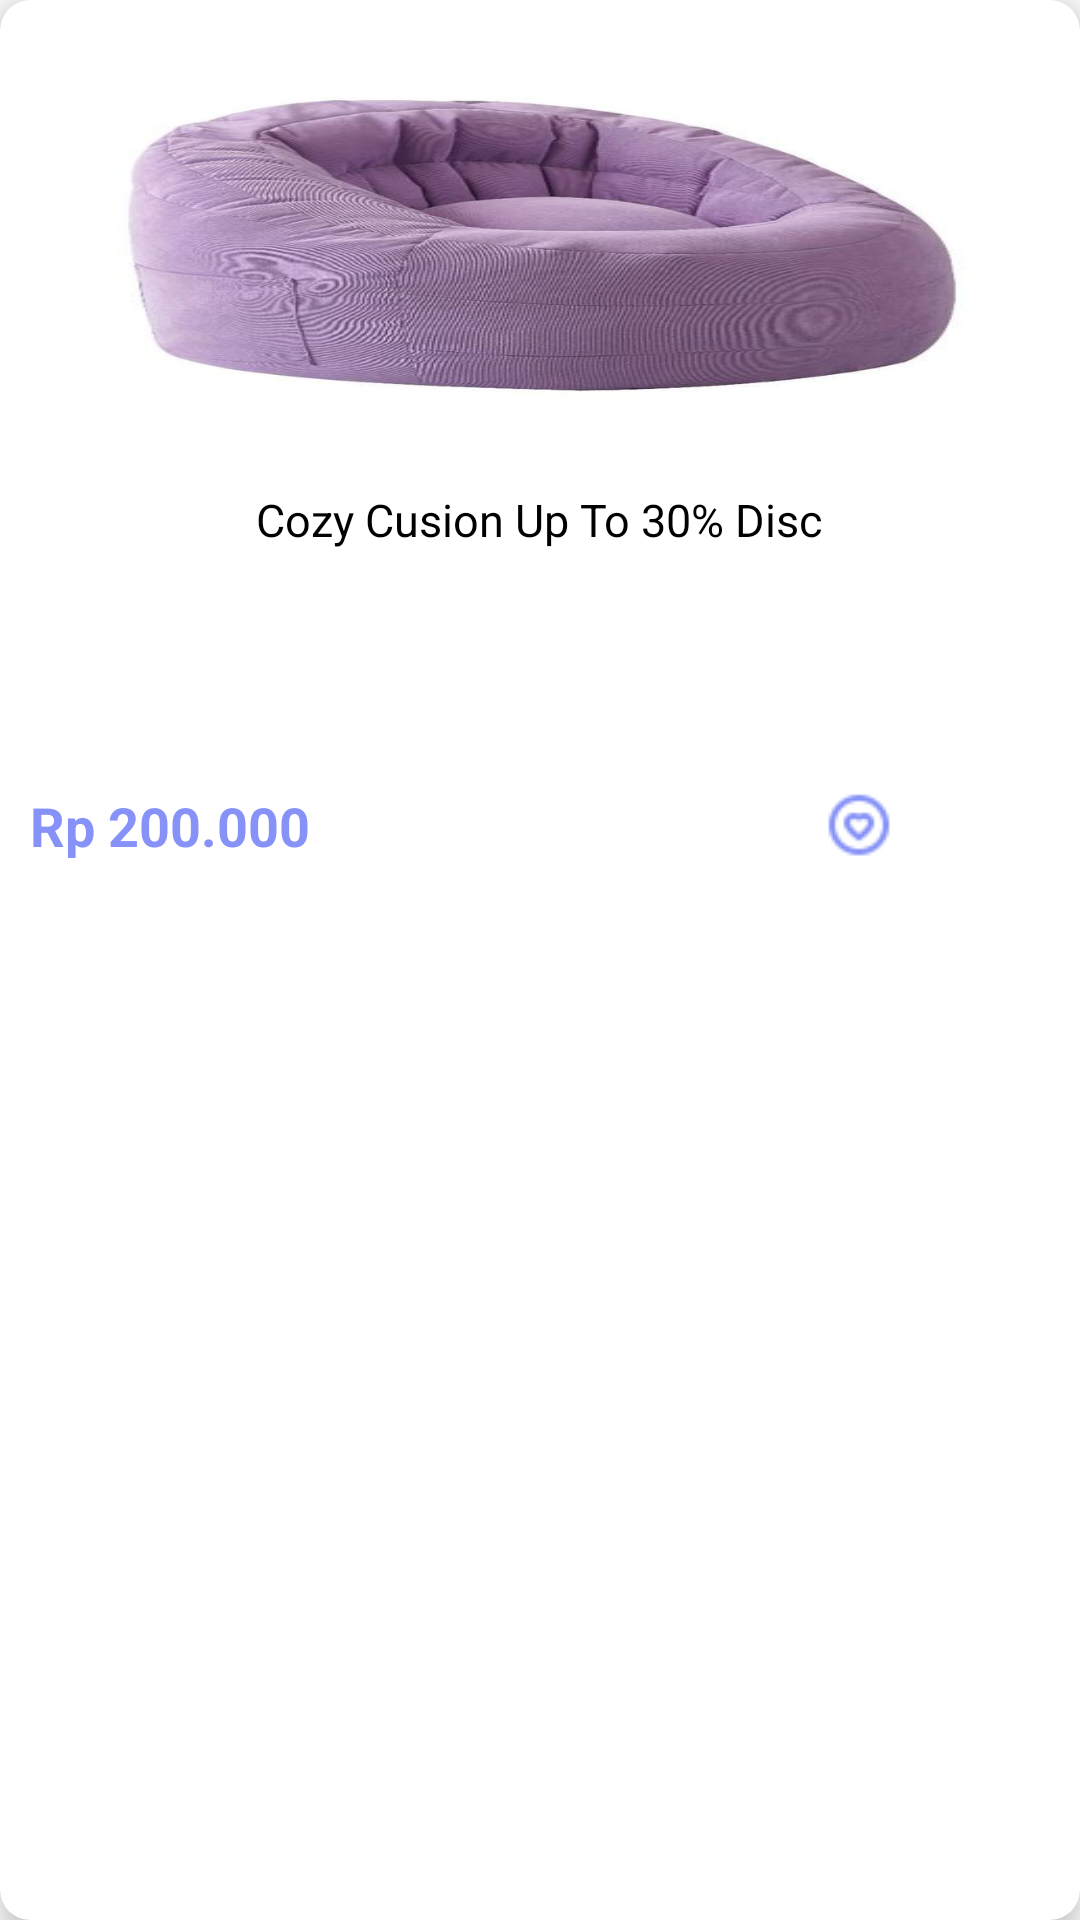

Locate icon controls on the screen. Image size 1080x1920, boxes as (x1=x1, y1=y1, x2=x2, y2=y2).
love: (x1=828, y1=794, x2=890, y2=856)
